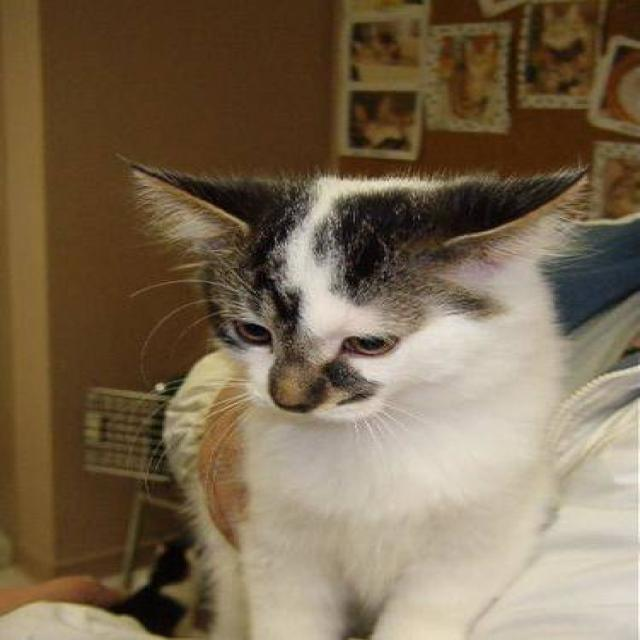cat: (115, 152, 598, 638)
